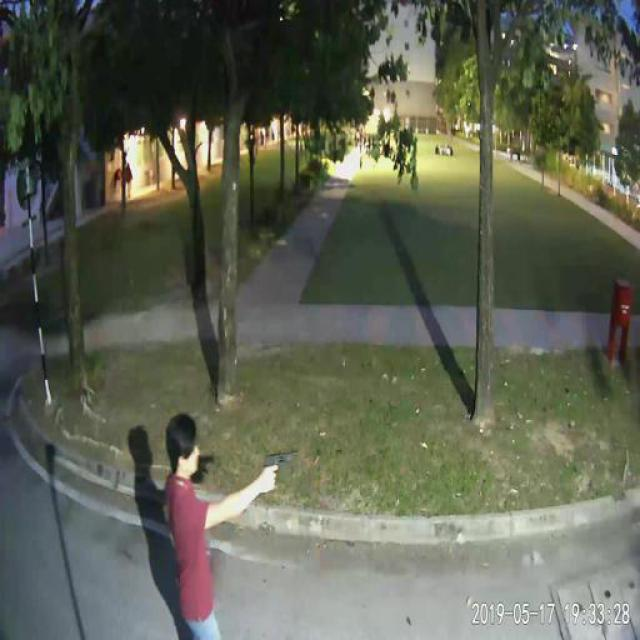Gun: (262, 446, 296, 489)
